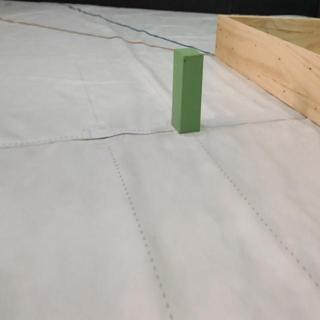greenbox: (170, 47, 205, 134)
